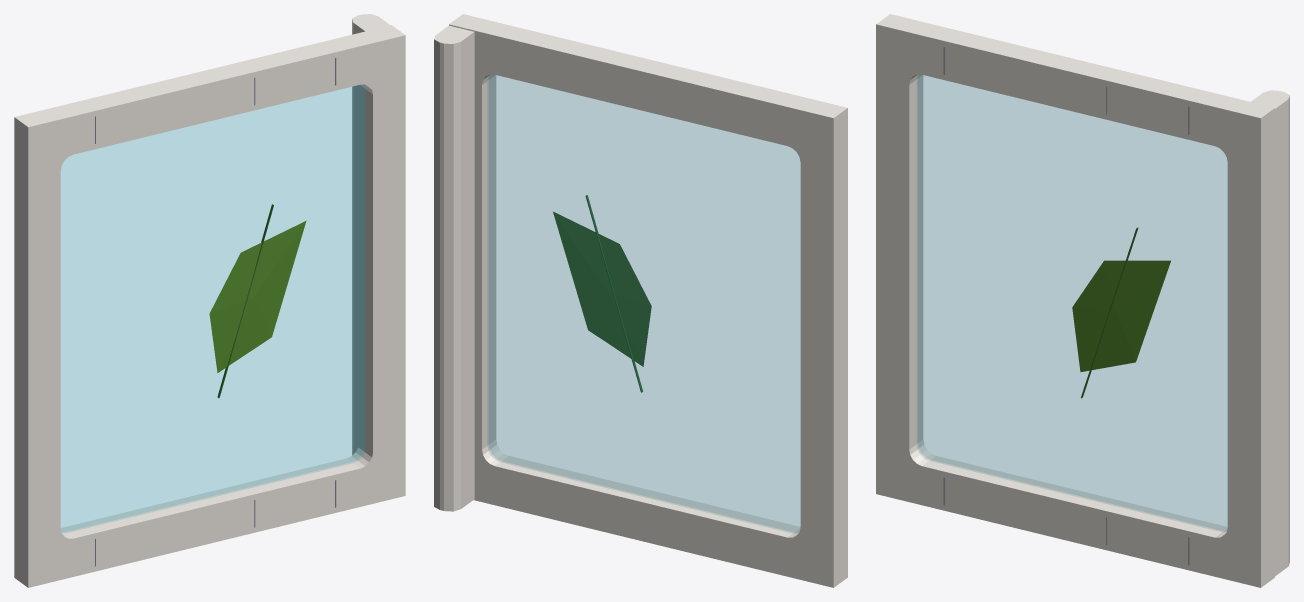
The model's file is wall_bay_tall.glb.
The picture shows the model from 3 angles, left to right: view 1: azimuth 30°, elevation 25°; view 2: azimuth 150°, elevation 25°; view 3: azimuth 330°, elevation 25°; orthographic projection.
Visible parts, largest first — view 1: frutiger_aero_wall_bay_tall; view 2: frutiger_aero_wall_bay_tall; view 3: frutiger_aero_wall_bay_tall.
Part boxes in pixels (left/top/right/bottom): frutiger_aero_wall_bay_tall: left=14, top=14, right=405, bottom=587; frutiger_aero_wall_bay_tall: left=434, top=14, right=847, bottom=587; frutiger_aero_wall_bay_tall: left=876, top=14, right=1289, bottom=587.
Bounding box in the file's own units: 3.6 × 4.2 × 0.556.
Materials: 4 (4 with a texture image).
